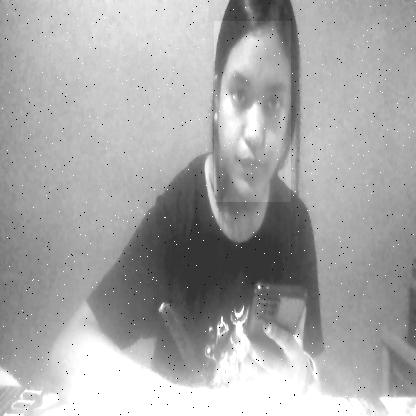Normal: (214, 21, 291, 202)
